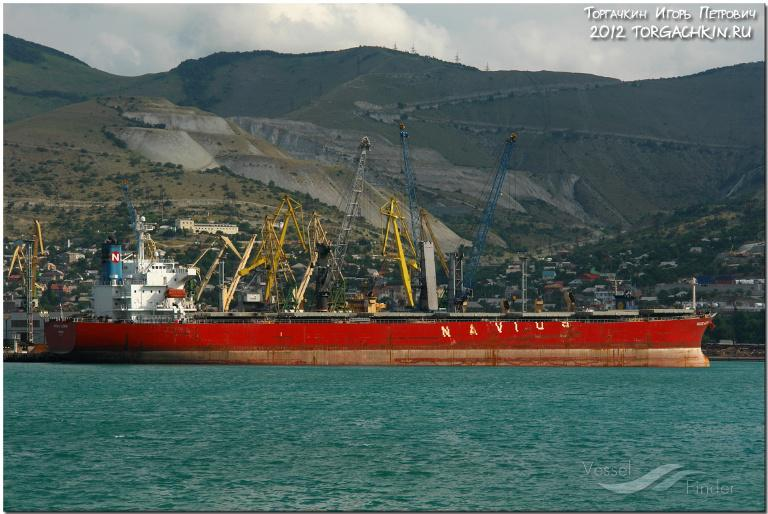OCR: (428, 322, 582, 348)
